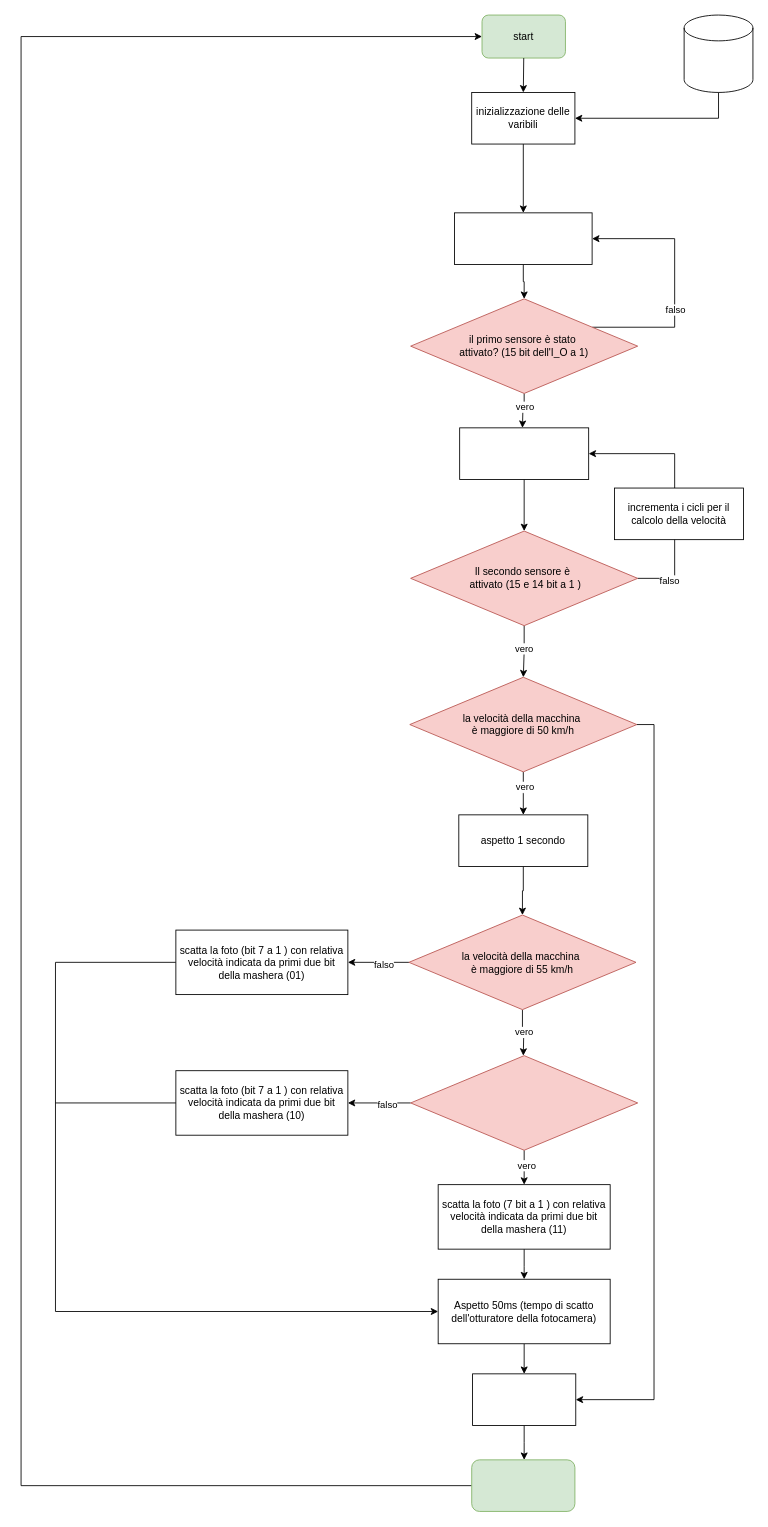
This 768x1527 diagram has some shape labels left out. Here are the shapes that lost their labels. From the top down, the centre of each, then its label:
At (718,53): "cella a 16 bit I_O".
At (523,238): "Impostiamo il 15esimo bit della maschera a 1".
At (524,453): "Impostiamo anche il 14esimo bit della maschera a 1".
At (524,1102): "la velocità della macchina è maggiore di 60 km/h".
At (524,1399): "resetta i registri utilizzati".
At (523,1485): "fine".
